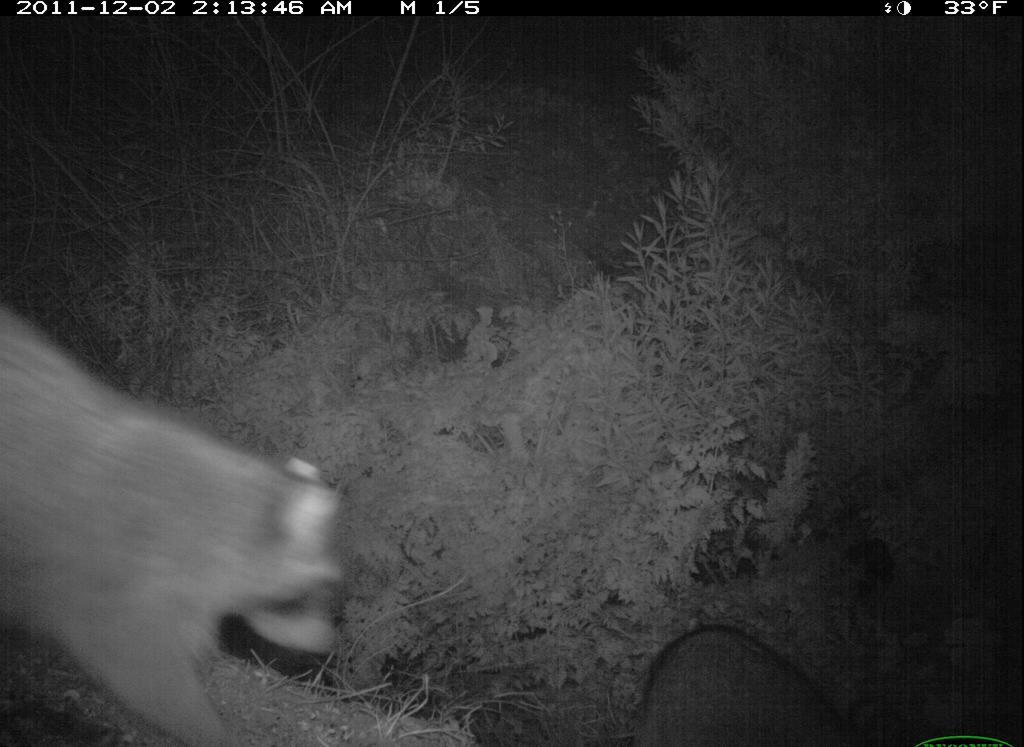raccoon: (1, 290, 402, 747)
